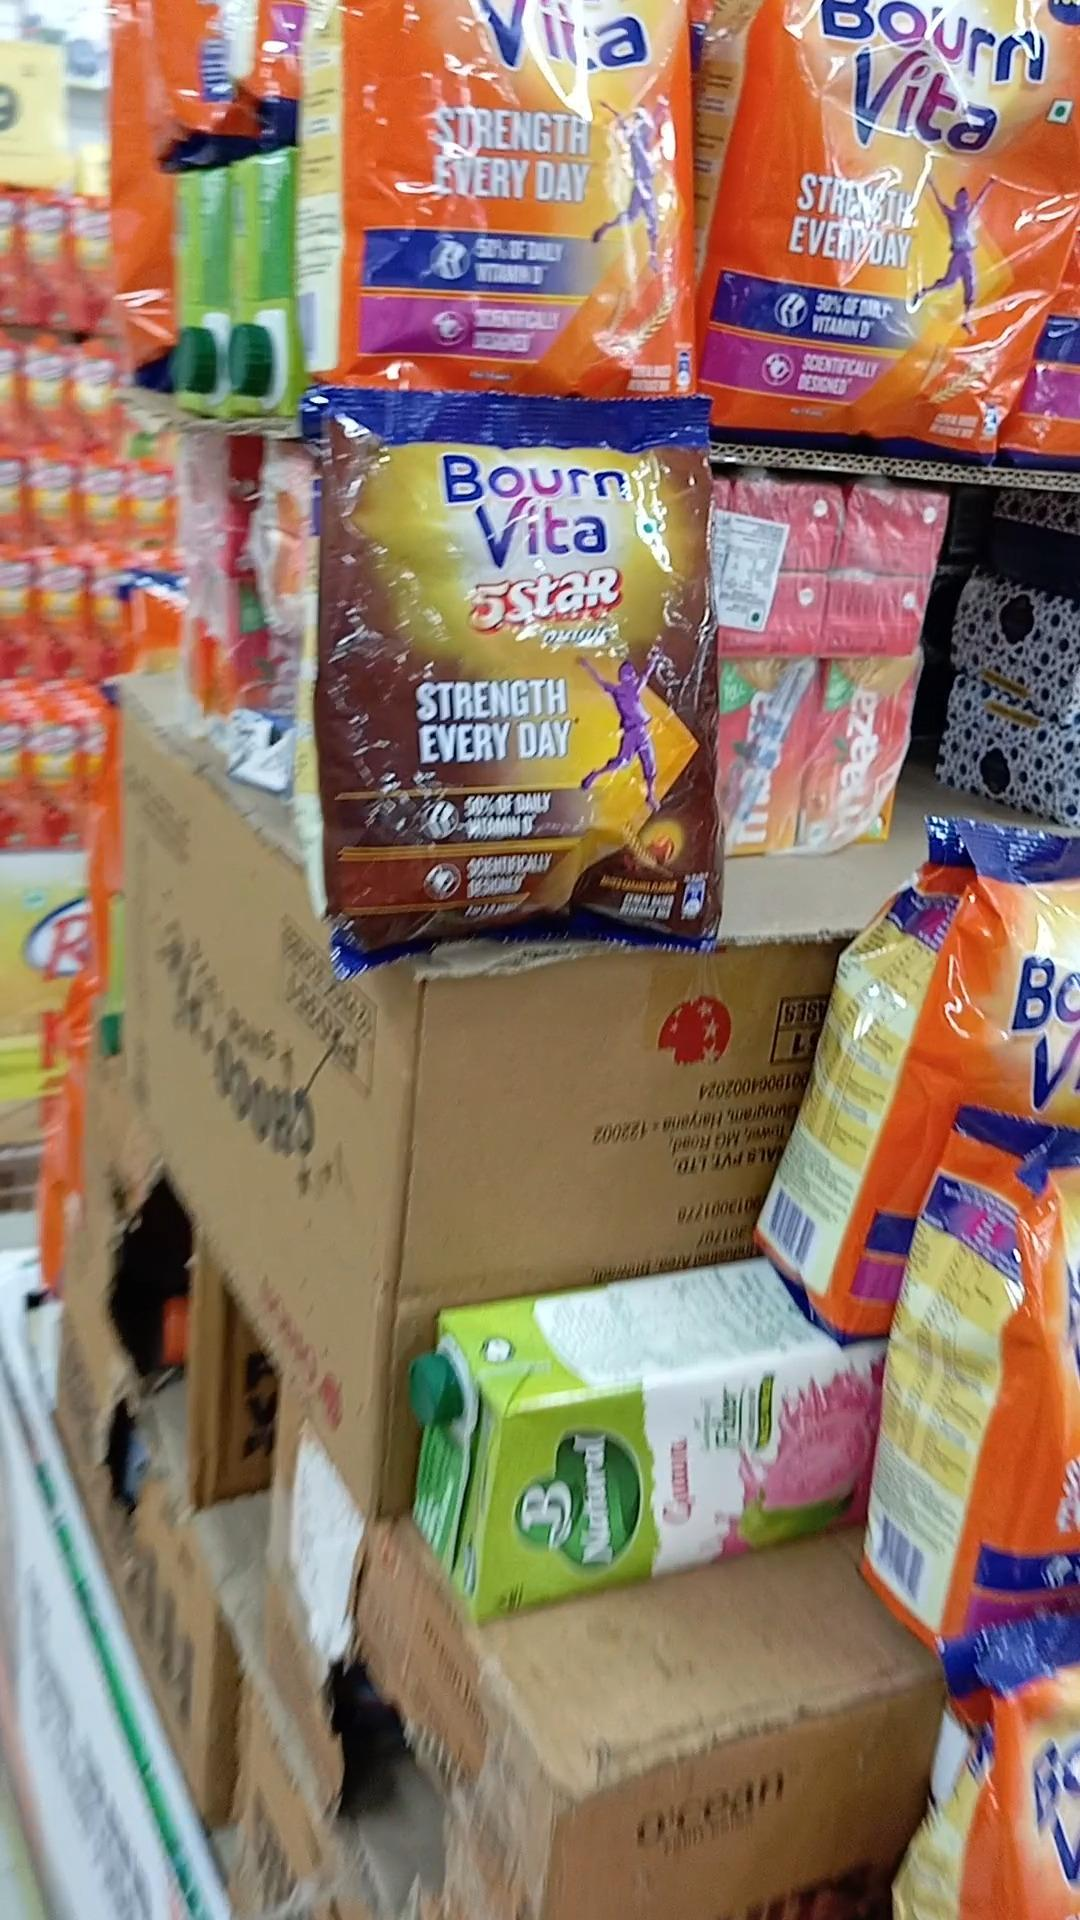BOURN_VITA_FIVE_STAR_MAGIC_500_G_POUCH: (320, 389, 717, 935)
